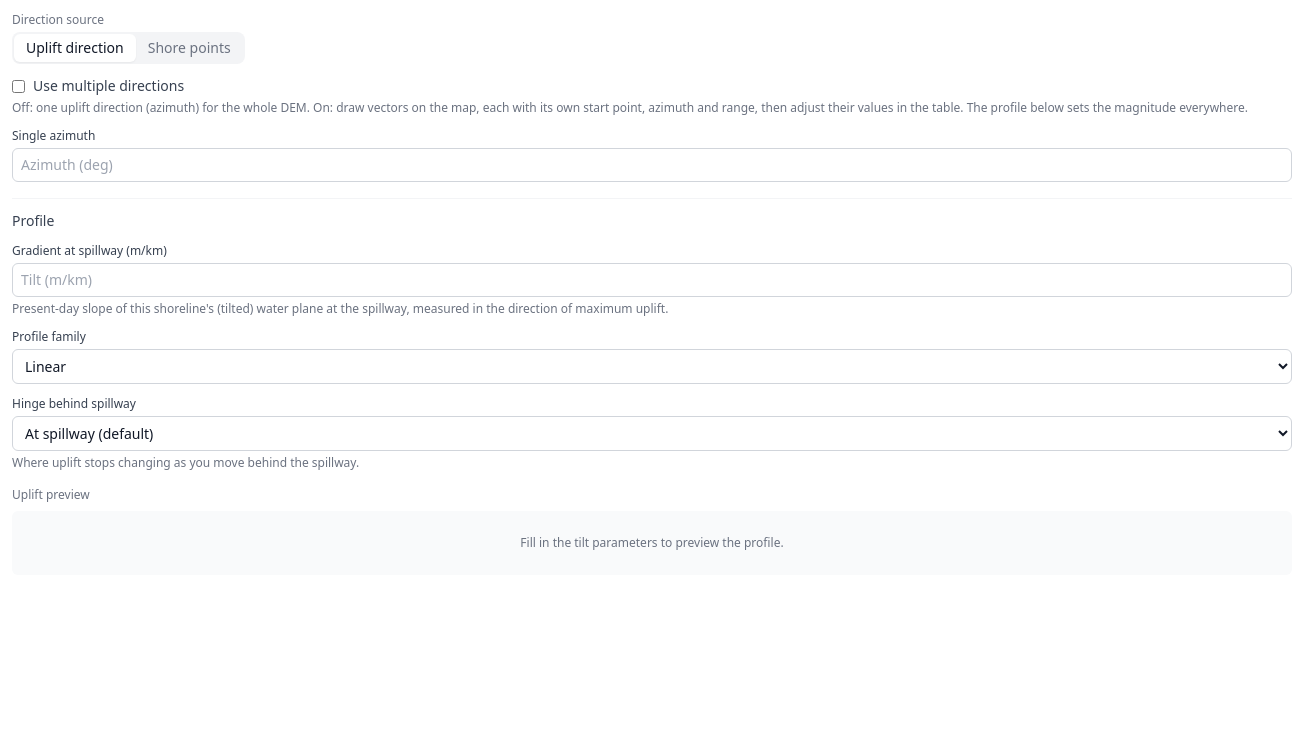
Test: direction source › has a Shore points segment; choosing it shows the panel and hides the profile and hinge blocks
Click the button "Shore points": (189, 48) [136, 34, 243, 62]
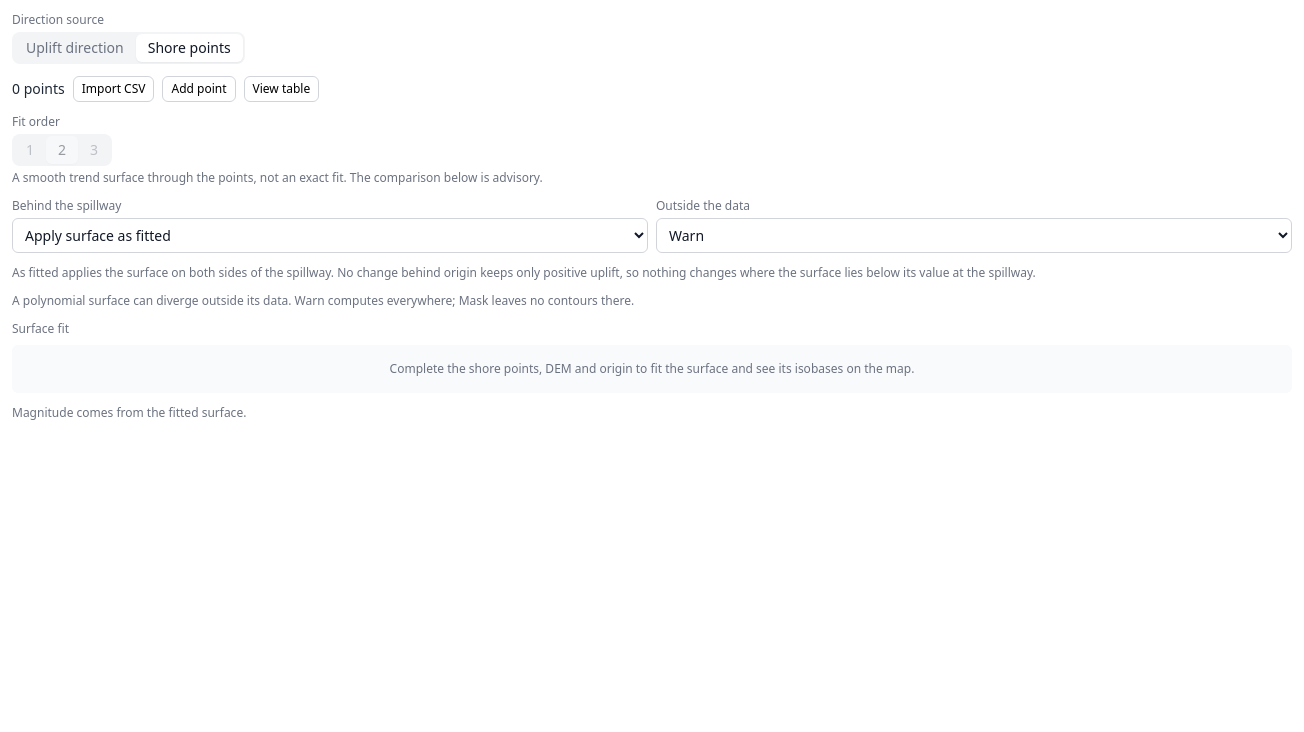
expect the text "0 points" is shown: met, box [12, 79, 65, 99]
expect the text "Magnitude comes from the fitted surface." is shown: met, box [12, 404, 246, 421]
expect the text labelled "Single azimuth" is gone: met
